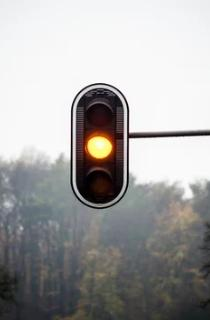yellow_light: (71, 83, 129, 209)
